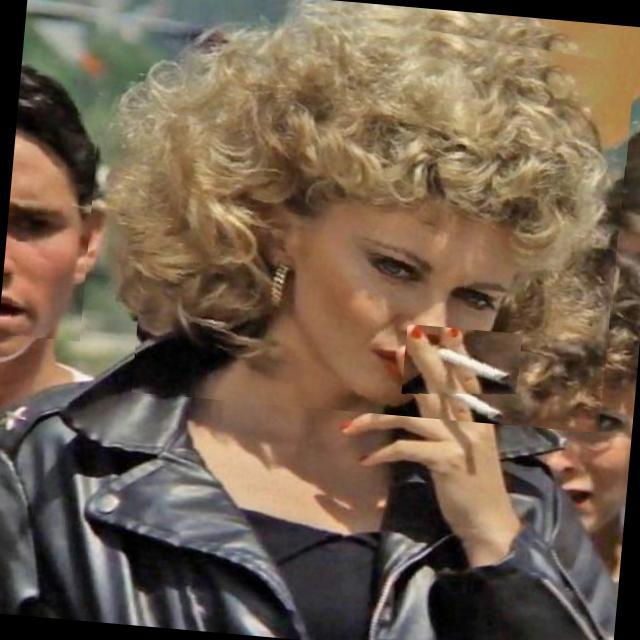cigarette: (401, 324, 522, 404)
